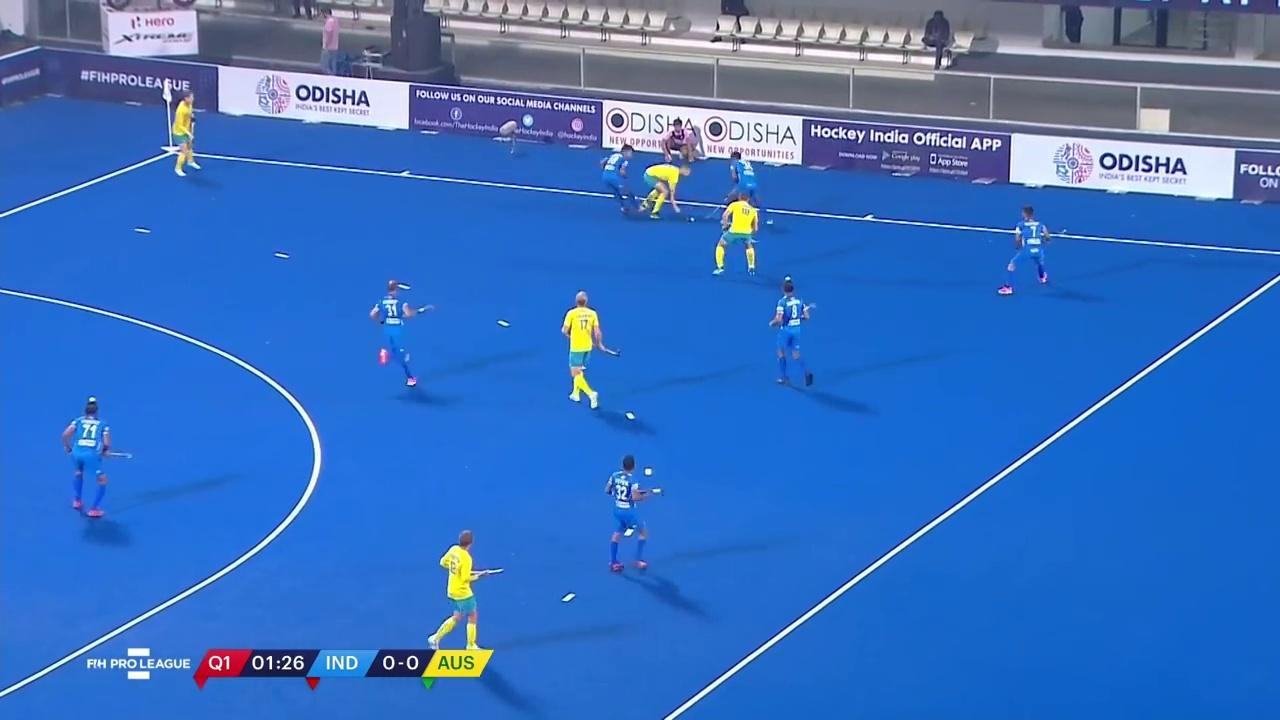ball: (683, 213, 697, 224)
